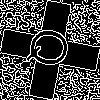Q: (25, 25, 80, 72)
